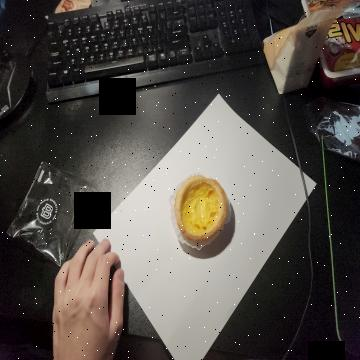EggTart: (174, 175, 230, 244)
